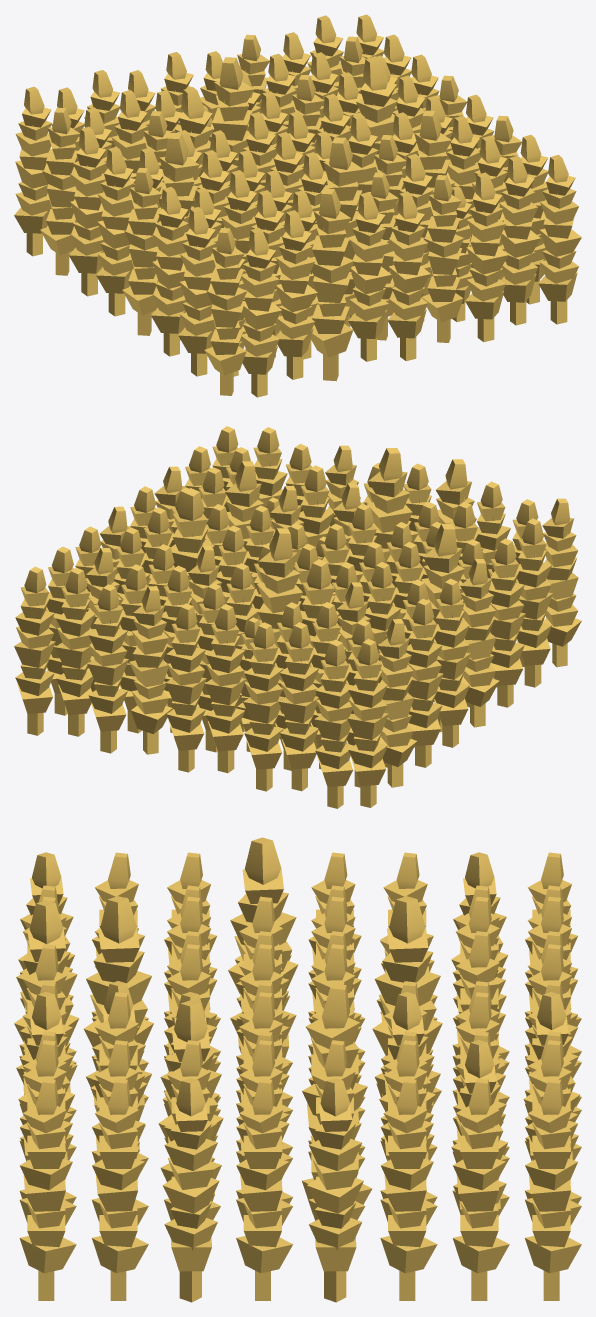
The model's file is Wheat_FloorTile.fbx.
The picture shows the model from 3 angles, top to bottom: view 1: azimuth 30°, elevation 25°; view 2: azimuth 150°, elevation 25°; view 3: azimuth 270°, elevation 25°; orthographic projection. The views are drawn at different scales.
Visible parts, largest first — view 1: pCube91; view 2: pCube91; view 3: pCube91.
Part boxes in pixels (x1,y1,x2,y2): pCube91: [14, 14, 581, 397]; pCube91: [14, 426, 581, 808]; pCube91: [14, 837, 581, 1302].
Size of the model in its own units: 4.9 by 2.66 by 4.91.
Materials: 1 (1 with a texture image).
